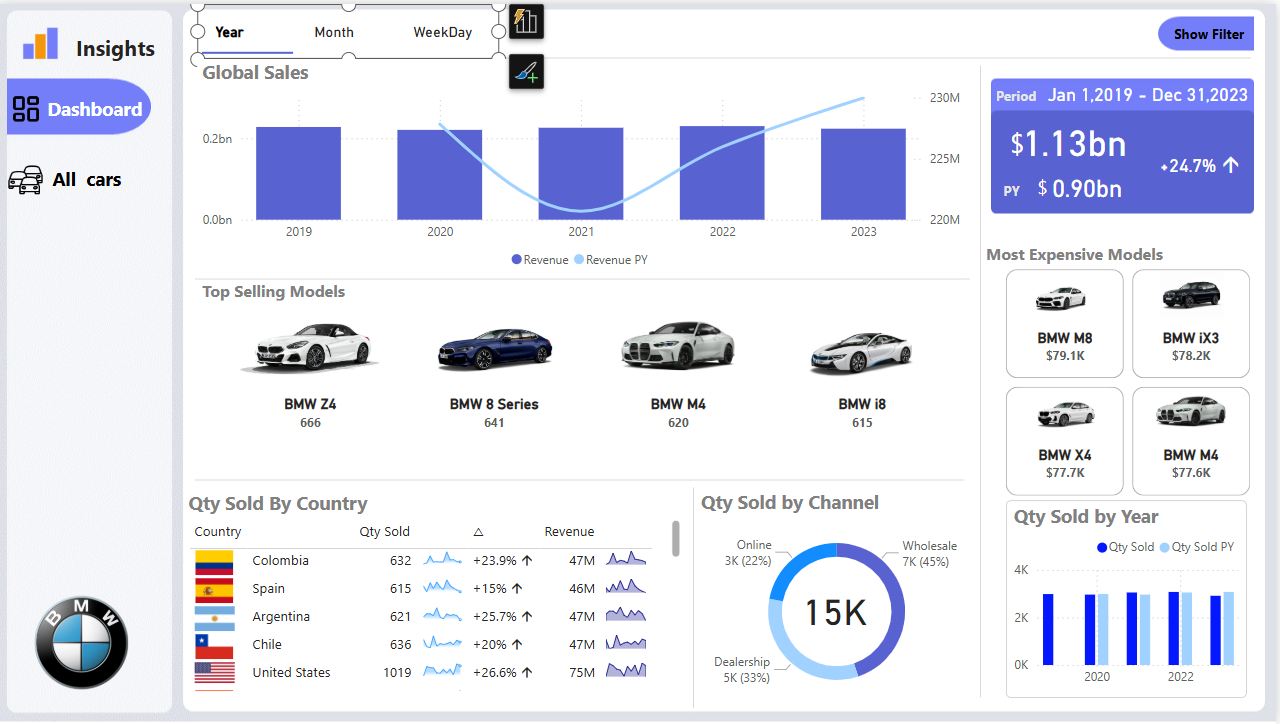

The dashboard page shown, as its layout file describes it:
{"tool":"powerbi","page":{"name":"BMW Dashboard","canvas":[1280,720],"ordinal":0},"visuals":[{"type":"advancedSlicerVisual","fields":{"Values":["PeriodSlicer.PeriodSlicer"]},"box":[201.1,0,300.8,55.2],"z":0},{"type":"textbox","box":[75.3,23.8,98.3,40],"z":0,"group":"g2"},{"type":"image","box":[10.3,13.8,68.3,48.3],"z":1000,"group":"g2"},{"type":"lineClusteredColumnComboChart","title":" Global Sales","fields":{"Category":["Calendar.Year"],"Y":["All Measures.Revenue"],"Y2":["All Measures.Revenue PY"]},"box":[201.1,55.2,768.9,218.9],"z":1000},{"type":"card","fields":{"Values":["All Measures.Revenue"]},"box":[1007.5,110,142.5,52.5],"z":2000,"group":"g3"},{"type":"card","fields":{"Values":["All Measures.Revenue PY"]},"box":[1030,156.2,122.5,55],"z":3000,"group":"g4"},{"type":"textbox","box":[1002,172.6,53.4,39.2],"z":4000,"group":"g4"},{"type":"card","fields":{"Values":["All Measures.Revenue Variance % Arrow"]},"box":[1135,135.4,133,55.1],"z":5000},{"type":"card","fields":{"Values":["All Measures.Selected Period"]},"box":[1037.6,64.1,229.6,55.2],"z":6000},{"type":"textbox","box":[994.9,77,60.5,44.5],"z":7000},{"type":"advancedSlicerVisual","title":"Top Selling Models","fields":{"Values":["dimModel.Model"]},"box":[201.3,274.5,780.2,202.5],"z":8000},{"type":"advancedSlicerVisual","title":"Most Expensive Models","fields":{"Values":["dimModel.Model"]},"box":[985.2,238.5,294.8,257.7],"z":9000},{"type":"clusteredColumnChart","title":"Qty Sold by Year","fields":{"Y":["All Measures.Qty Sold","All Measures.Qty Sold PY"],"Category":["Calendar.Year"]},"box":[1010.3,496.2,240.9,197.8],"z":10000},{"type":"donutChart","fields":{"Y":["All Measures.Qty Sold"],"Category":["dimChannel.Channel"]},"box":[699.9,485.4,281.6,220.5],"z":11000},{"type":"card","fields":{"Values":["All Measures.Qty Sold"]},"box":[783.8,575.3,110.3,59.9],"z":12000},{"type":"tableEx","title":"Qty Sold By Country","fields":{"Values":["dimCountry.Flag","dimCountry.Country","All Measures.Qty Sold","All Measures.Qty Sold Sparkline","All Measures.Qty Sold Variance % Arrow","All Measures.Revenue","All Measures.Revenue Sparkline"]},"box":[187,486.6,501.7,206.1],"z":13000},{"type":"textbox","box":[45.7,87.1,115.7,35.7],"z":14000},{"type":"image","box":[10,82.9,40,44.3],"z":15000},{"type":"image","box":[7.1,147.1,44.3,57.1],"z":16000},{"type":"textbox","box":[51.4,157.1,121.4,44.3],"z":17000},{"type":"actionButton","box":[6.2,153.8,172.5,45],"z":18000},{"type":"group","id":"g1","title":"Filter Pane","box":[905.7,12.5,353.3,471.7],"z":19000},{"type":"image","box":[34,584.1,103.2,108.9],"z":20000},{"type":"actionButton","box":[1167.5,12.5,91.4,34.3],"z":20001,"group":"g1"},{"type":"group","id":"g2","title":"Group 1","box":[10.3,13.8,163.3,50],"z":20001},{"type":"textbox","box":[1008.7,115,50,46.2],"z":20002,"group":"g3"},{"type":"textbox","box":[1036.2,165,42.5,38.8],"z":20003,"group":"g4"},{"type":"group","id":"g3","title":"Group 2","box":[1007.5,110,142.5,52.5],"z":20004},{"type":"group","id":"g4","title":"Group 3","box":[1002,156.2,150.5,55.5],"z":20005}]}

Visuals, with their boxes on the page's 1280x720 design canvas (x1, y1, x2, y2). These are canvas units, not pixel positions in the 1280x724 screenshot, which may show the page scaled, cropped or inside an application window:
advancedSlicerVisual - PeriodSlicer.PeriodSlicer: locate(201, 0, 502, 55)
textbox: locate(75, 24, 174, 64)
image: locate(10, 14, 79, 62)
" Global Sales" lineClusteredColumnComboChart: locate(201, 55, 970, 274)
card - All Measures.Revenue: locate(1008, 110, 1150, 162)
card - All Measures.Revenue PY: locate(1030, 156, 1152, 211)
textbox: locate(1002, 173, 1055, 212)
card - All Measures.Revenue Variance % Arrow: locate(1135, 135, 1268, 190)
card - All Measures.Selected Period: locate(1038, 64, 1267, 119)
textbox: locate(995, 77, 1055, 122)
"Top Selling Models" advancedSlicerVisual: locate(201, 274, 982, 477)
"Most Expensive Models" advancedSlicerVisual: locate(985, 238, 1280, 496)
"Qty Sold by Year" clusteredColumnChart: locate(1010, 496, 1251, 694)
donutChart - All Measures.Qty Sold x dimChannel.Channel: locate(700, 485, 982, 706)
card - All Measures.Qty Sold: locate(784, 575, 894, 635)
"Qty Sold By Country" tableEx: locate(187, 487, 689, 693)
textbox: locate(46, 87, 161, 123)
image: locate(10, 83, 50, 127)
image: locate(7, 147, 51, 204)
textbox: locate(51, 157, 173, 201)
actionButton: locate(6, 154, 179, 199)
"Filter Pane" group: locate(906, 12, 1259, 484)
image: locate(34, 584, 137, 693)
actionButton: locate(1168, 12, 1259, 47)
"Group 1" group: locate(10, 14, 174, 64)
textbox: locate(1009, 115, 1059, 161)
textbox: locate(1036, 165, 1079, 204)
"Group 2" group: locate(1008, 110, 1150, 162)
"Group 3" group: locate(1002, 156, 1152, 212)
